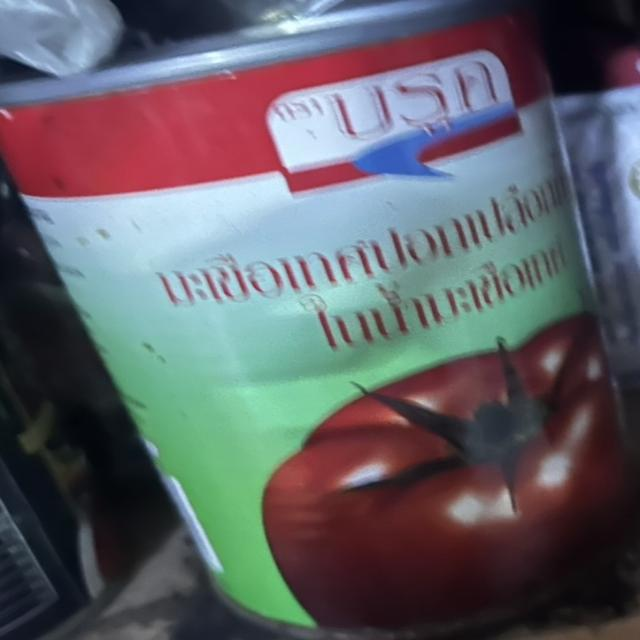can: (49, 0, 640, 609)
